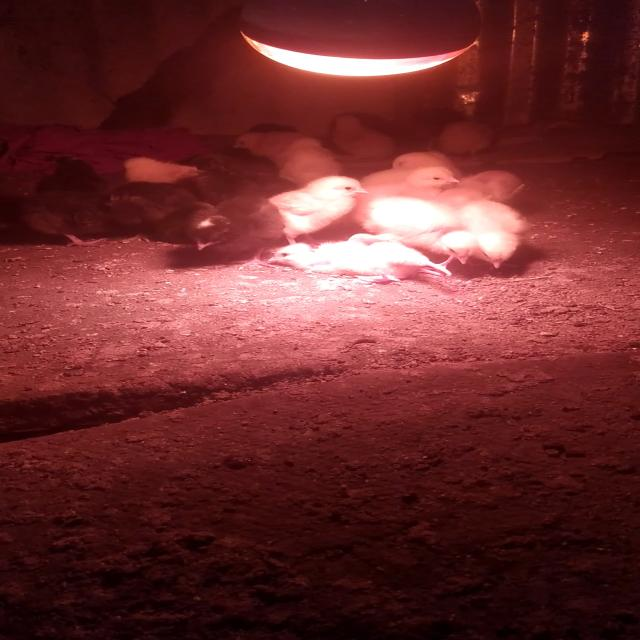chick: (266, 233, 462, 284), (242, 176, 369, 253), (346, 192, 478, 266), (186, 196, 286, 272), (341, 166, 460, 225), (438, 194, 530, 270), (19, 188, 125, 248), (104, 181, 202, 242), (29, 156, 106, 205), (124, 156, 217, 196), (175, 166, 258, 208), (233, 131, 316, 171), (332, 115, 399, 162), (391, 151, 464, 194), (279, 150, 344, 190), (434, 121, 495, 159), (276, 138, 334, 173), (77, 246, 78, 249)
